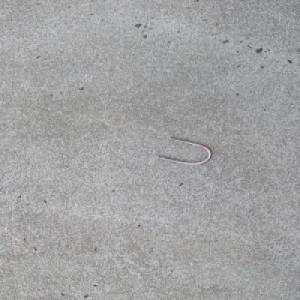ClampPart: (154, 136, 213, 165)
